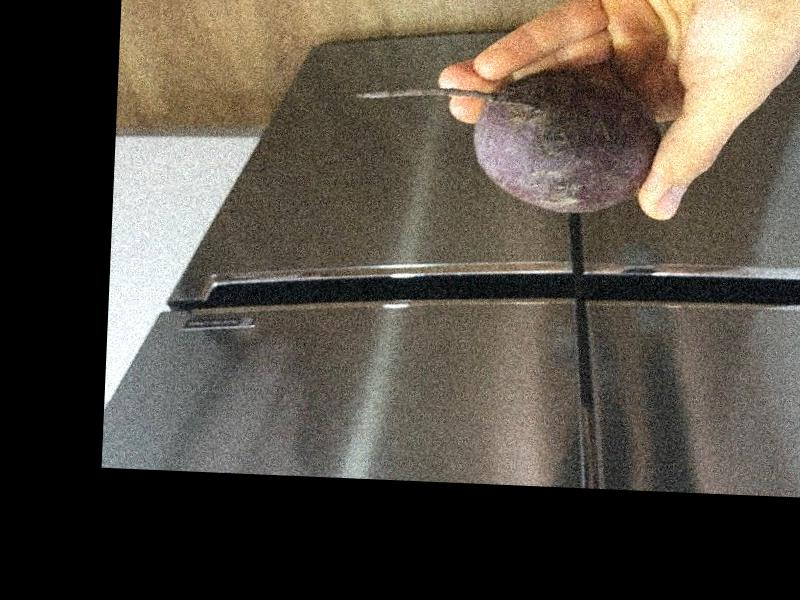Beet: (350, 64, 660, 217)
